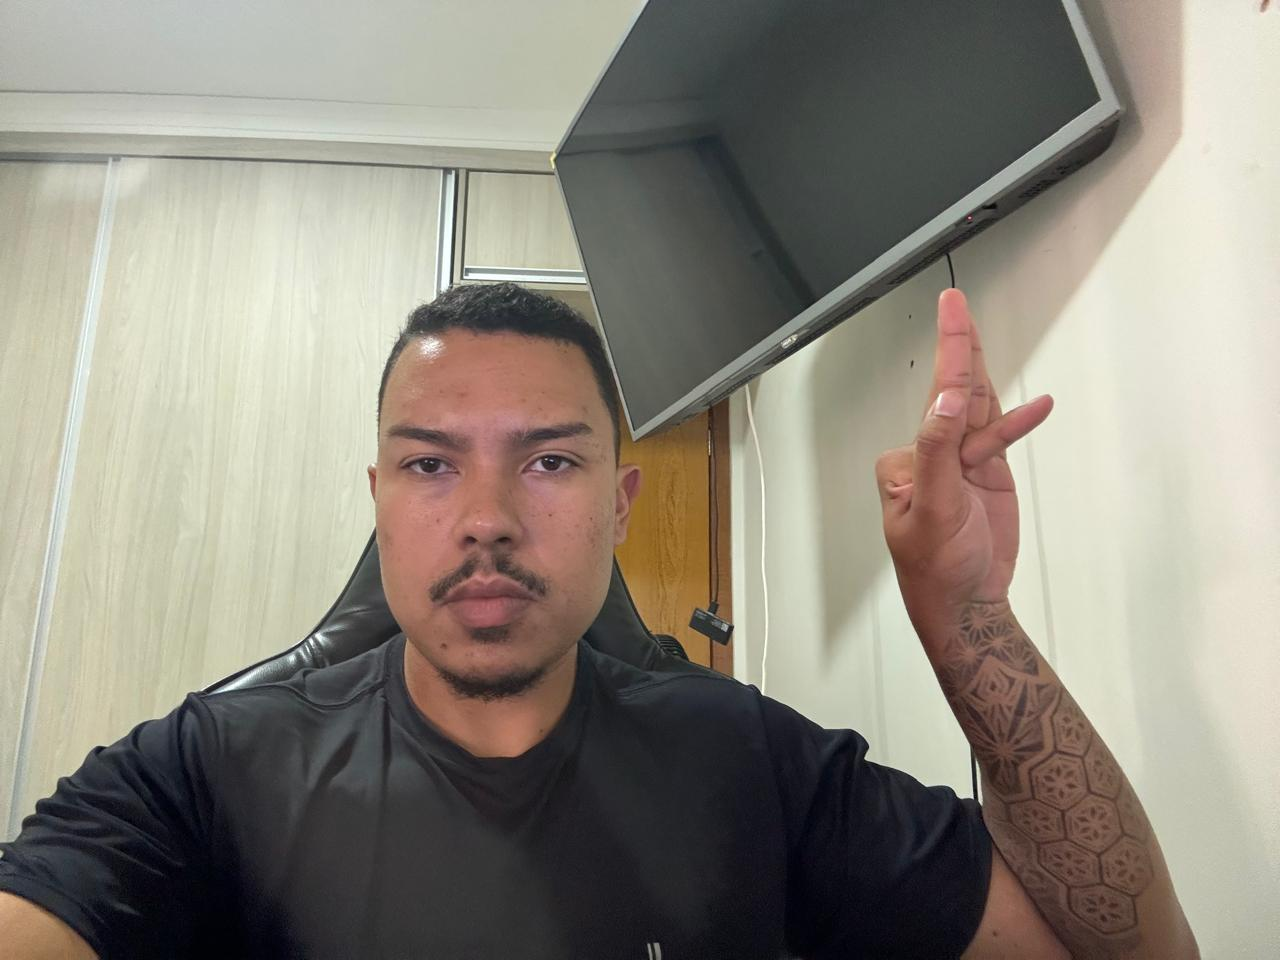f: (868, 280, 1065, 638)
